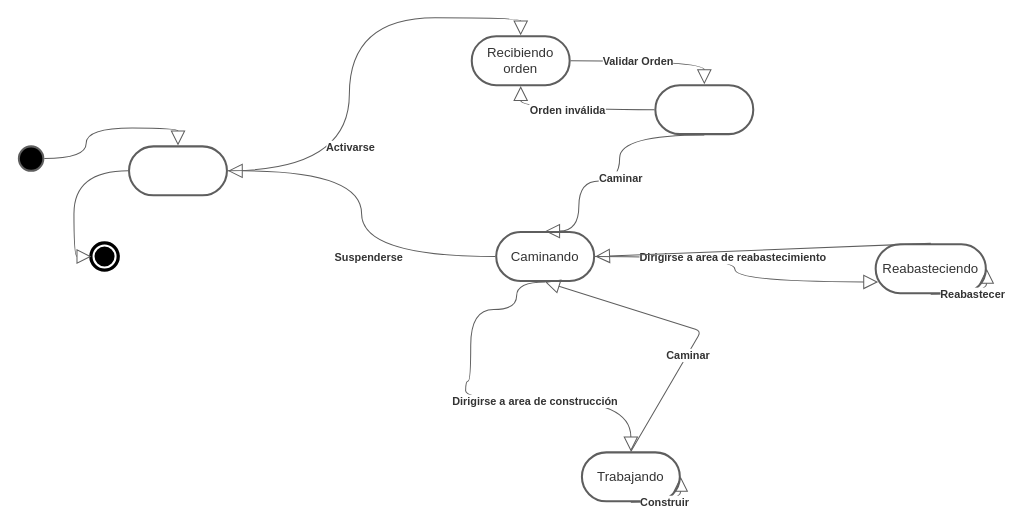
Some shapes in this 1022 by 527 pixel diagram are drawn without their labels. Here are the shapes that lost their labels. From the top down, the box of each, then its label:
(654, 84, 754, 135): Orden recibida
(128, 145, 227, 196): Suspendido
